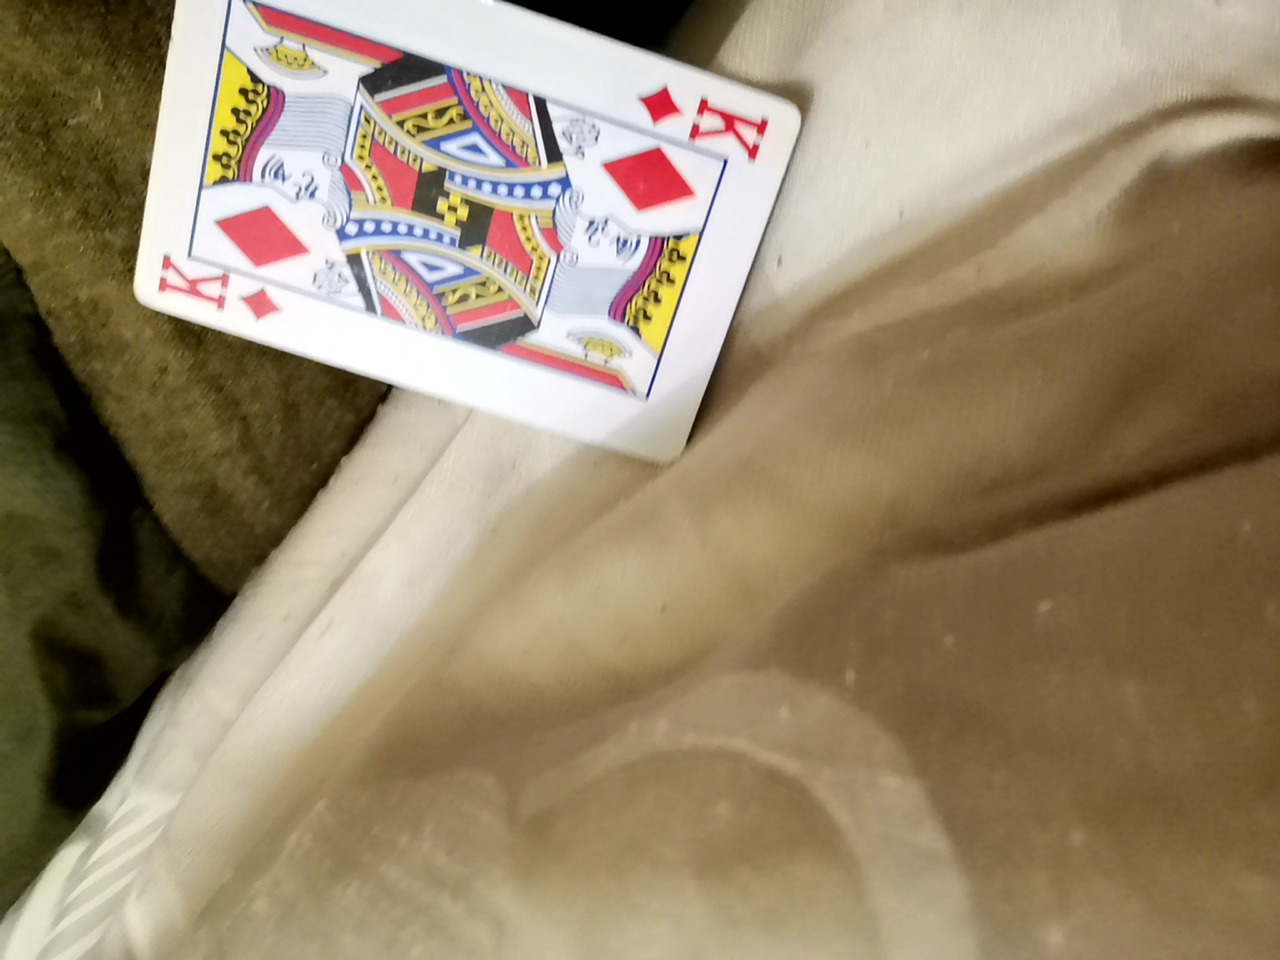fk k: (85, 5, 794, 472)
